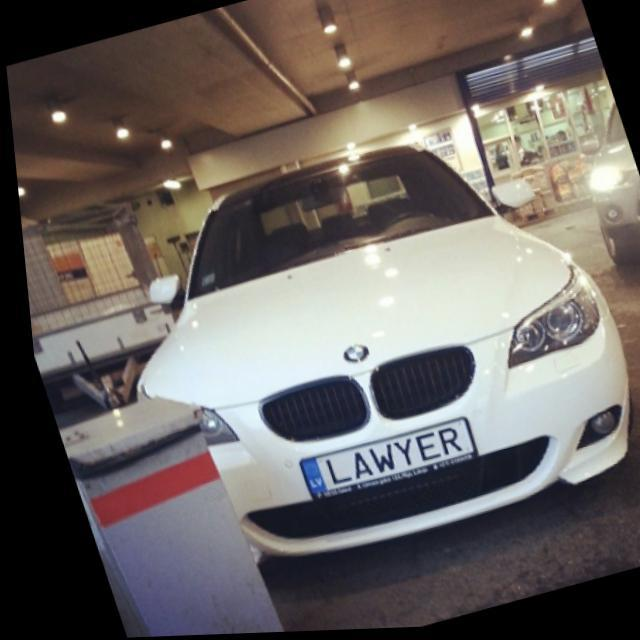license_plate: (285, 416, 473, 504)
